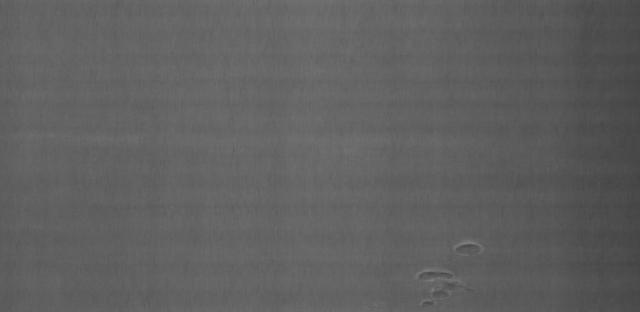rolled_pit: (448, 223, 492, 260), (408, 285, 464, 311), (412, 264, 461, 284)
